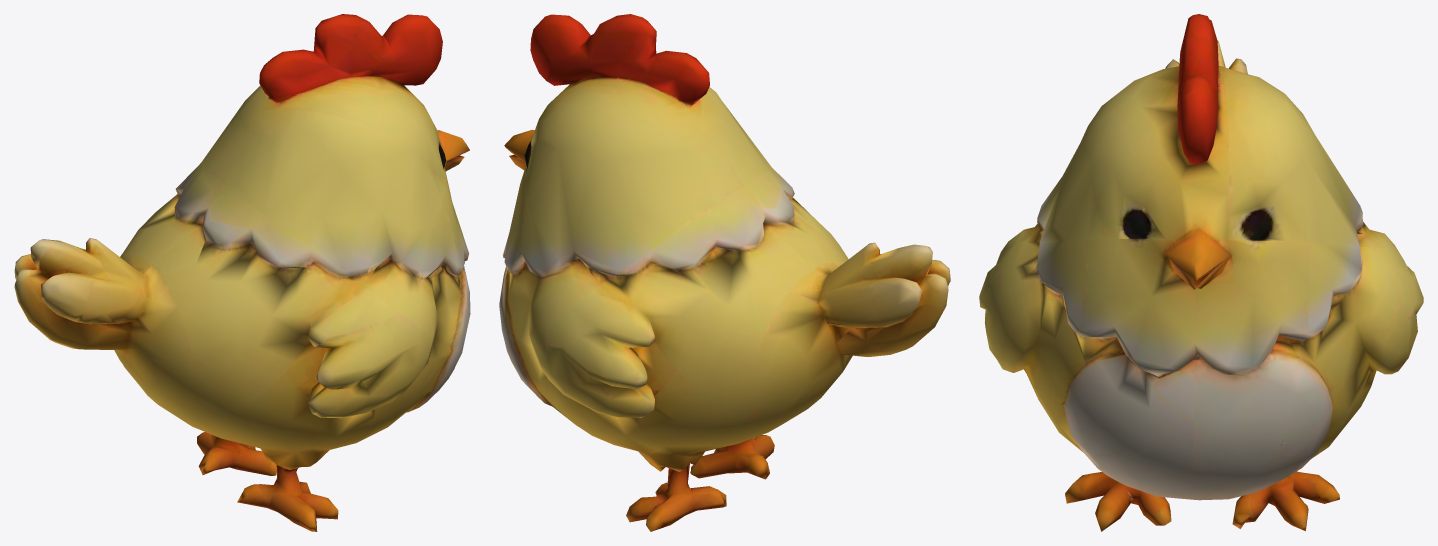
Rendered from chicken.glb.
3 views of the same model, side by side, from view 1: azimuth 30°, elevation 25°; view 2: azimuth 150°, elevation 25°; view 3: azimuth 270°, elevation 25° (orthographic). The views are drawn at different scales.
Visible parts, largest first — view 1: tripo_node_68929bbd-d091-4ba1-9e5b-dc339015cc4f; view 2: tripo_node_68929bbd-d091-4ba1-9e5b-dc339015cc4f; view 3: tripo_node_68929bbd-d091-4ba1-9e5b-dc339015cc4f.
Part boxes in pixels (x1=…): tripo_node_68929bbd-d091-4ba1-9e5b-dc339015cc4f: x1=14, y1=14, x2=470, y2=531; tripo_node_68929bbd-d091-4ba1-9e5b-dc339015cc4f: x1=499, y1=14, x2=950, y2=531; tripo_node_68929bbd-d091-4ba1-9e5b-dc339015cc4f: x1=979, y1=14, x2=1423, y2=531.
Size of the model in its own units: 0.9974 by 0.982 by 0.735.
1 material, 1 textured.
